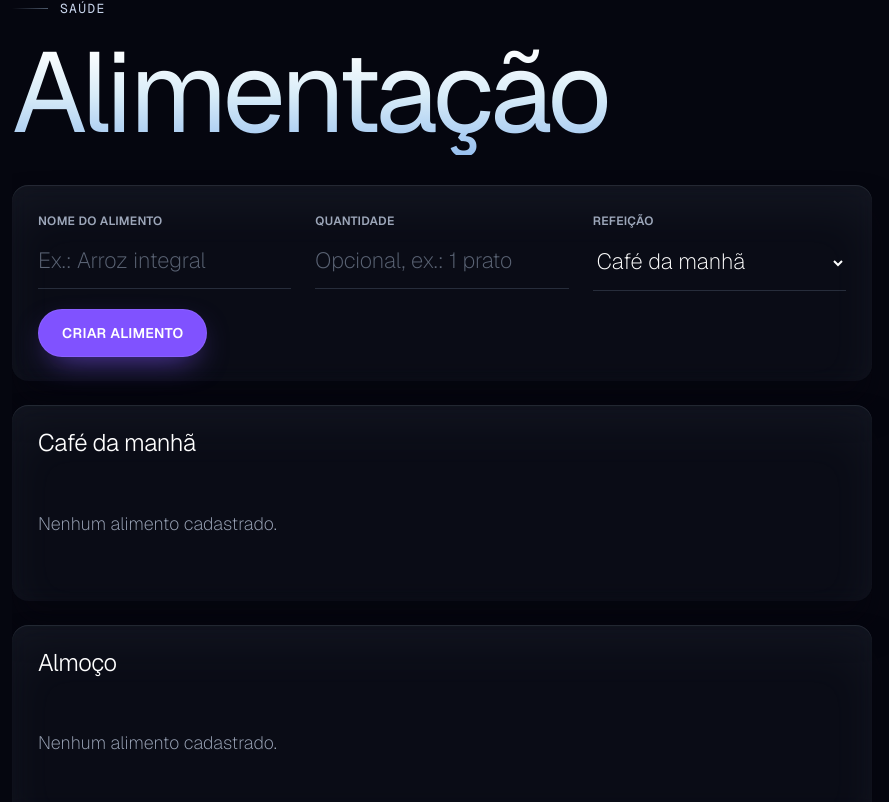
Scenario: S2 — criar alimento: validação, erro e bloqueio › keeps the typed draft and shows the API error when creation fails, leaving the list untouched, then retries
Check: the form named "Novo alimento" is shown, box [12,185,872,381]
Check: the field labelled "Quantidade" is shown, box [315,236,569,289]
Step 1. Type "  Iogurte " into the field labelled "Nome do alimento" → (165, 262), box [38,236,291,289]
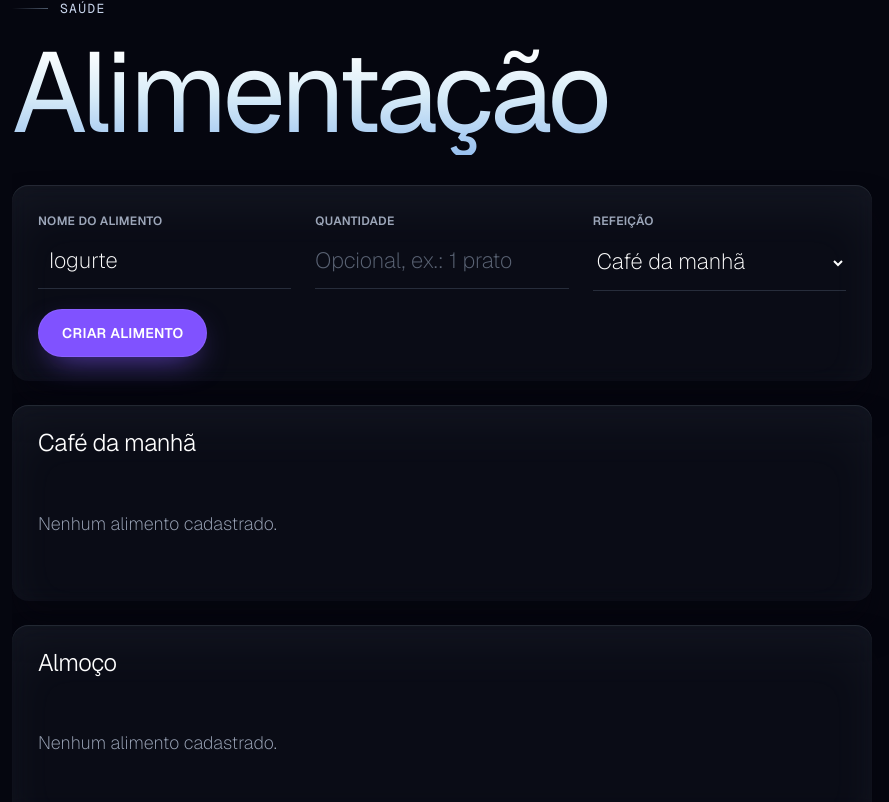
Step 2. Type "1 pote" into the field labelled "Quantidade" → (442, 262), box [315,236,569,289]
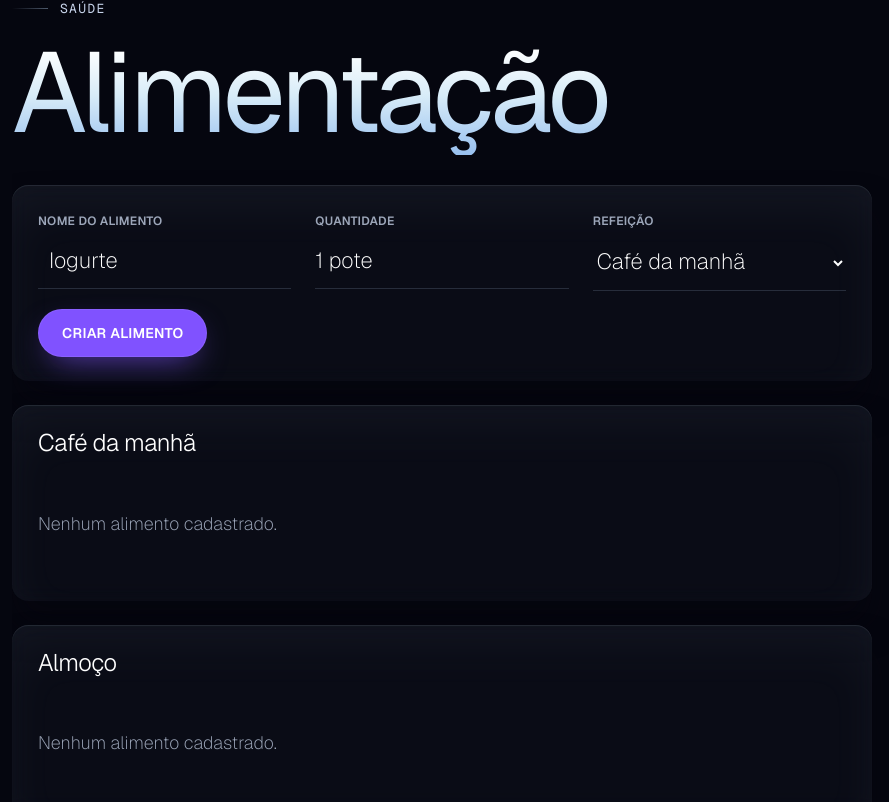
Step 3. Select "Café da tarde" in the dropdown labelled "Refeição" → (719, 263), box [593,236,846,291]
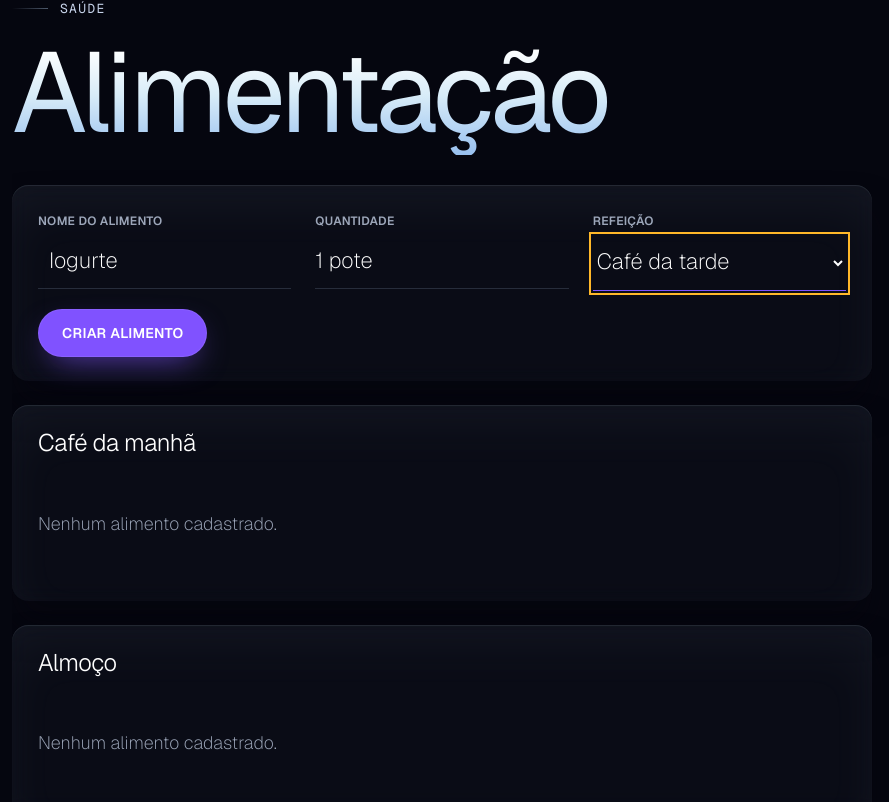
Step 4. Submit the form named "Novo alimento", box [12,185,872,381]
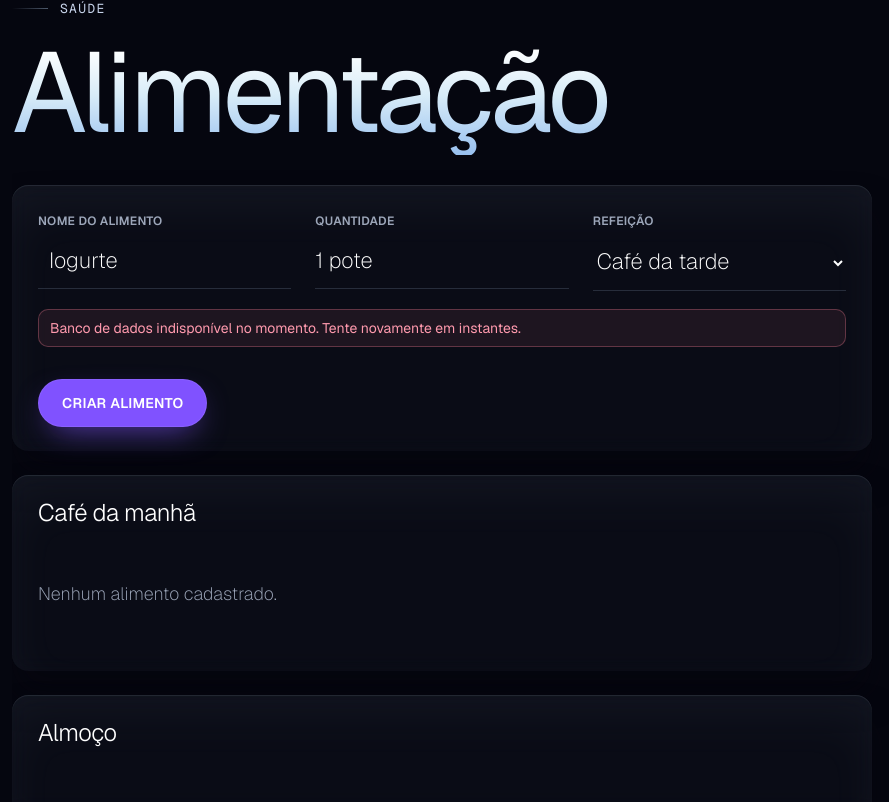
Check: the button "Criar alimento" is enabled, box [38,379,208,427]
Check: the message shows "Banco de dados indisponível", box [50,319,521,337]
Check: the number of messages is 1, box [38,309,846,347]
Step 5. Submit the form named "Novo alimento", box [12,185,872,451]
(page scrolled)
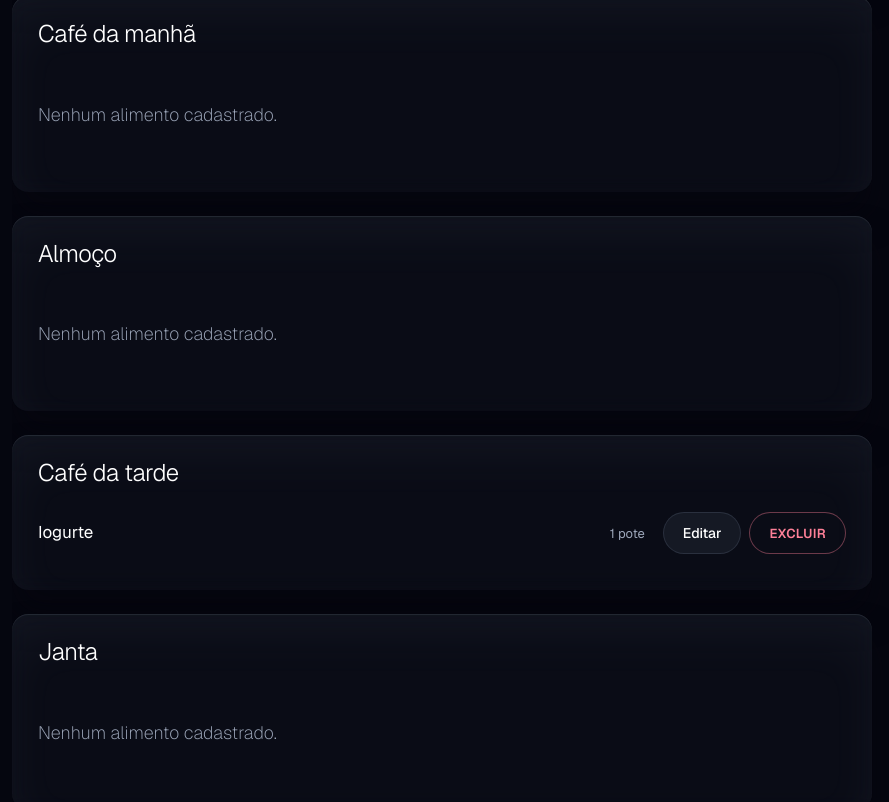
Check: the text "Iogurte" is shown, box [38,521,93,543]
Check: the message "Banco de dados indisponível no momento. Tente novamente em instantes." is gone
